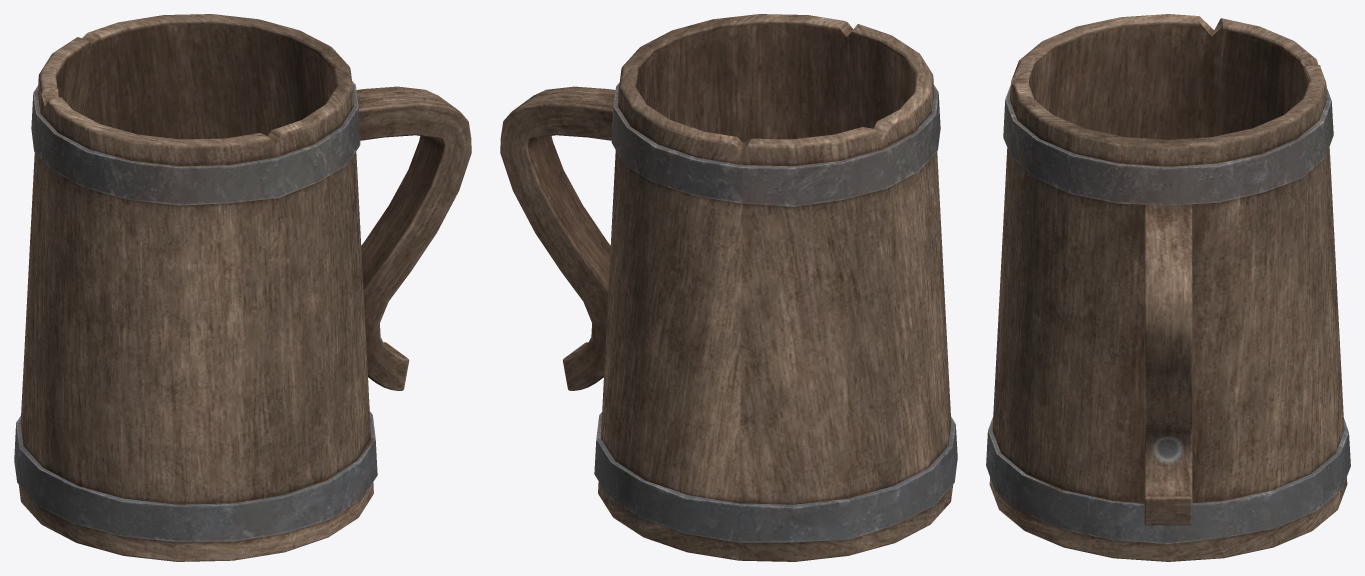
The model's file is caneca.glb.
3 renders of one model, left to right at view 1: azimuth 30°, elevation 25°; view 2: azimuth 150°, elevation 25°; view 3: azimuth 270°, elevation 25°, orthographic.
Parts seen in each view (by area): view 1: pCylinder2; view 2: pCylinder2; view 3: pCylinder2.
Boxes of the visible parts, bbox=[...] form: pCylinder2: bbox=[14, 14, 471, 561]; pCylinder2: bbox=[500, 14, 957, 561]; pCylinder2: bbox=[986, 14, 1350, 561].
Bounding box in the file's own units: 20.27 × 18.72 × 15.17.
1 material, 1 textured.
